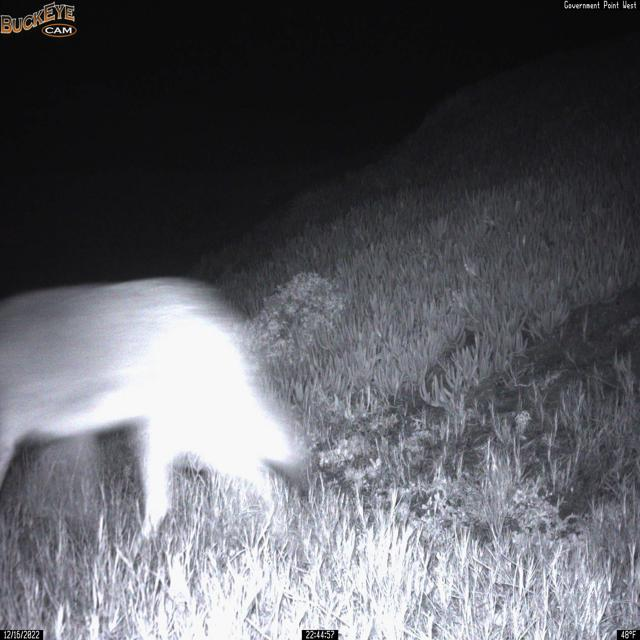coyote: (0, 274, 314, 574)
